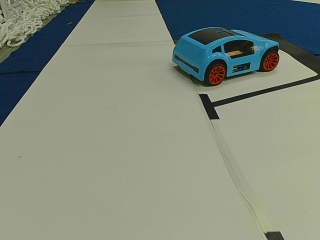car: (173, 28, 279, 84)
